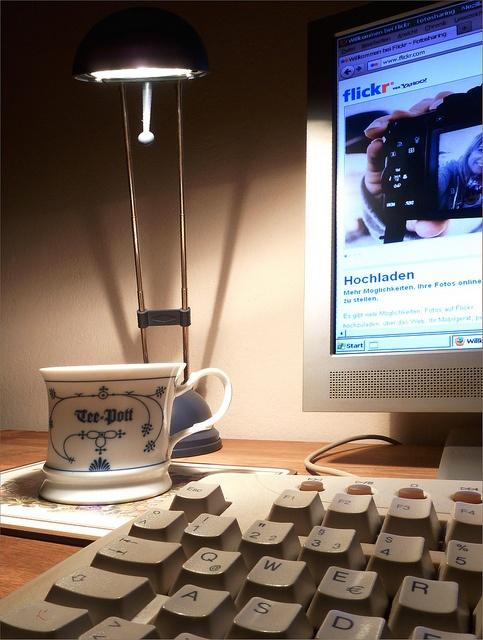AIO PC-Monitor-TV: (300, 0, 482, 413)
